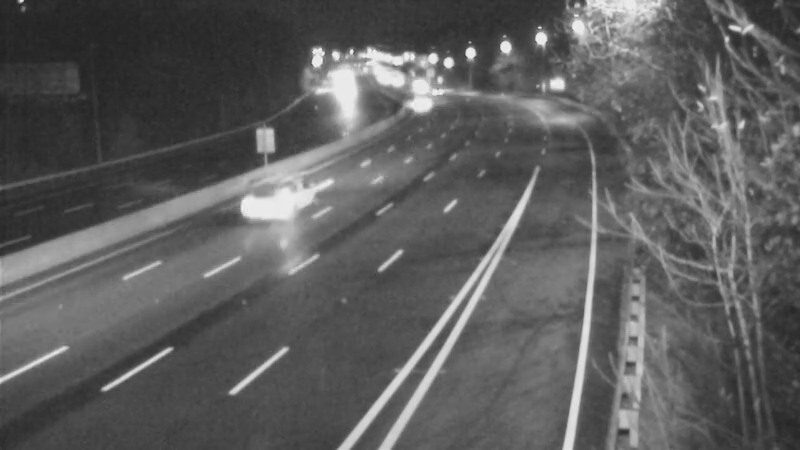vehicle: (224, 158, 304, 238), (411, 67, 461, 117), (397, 79, 447, 129)
